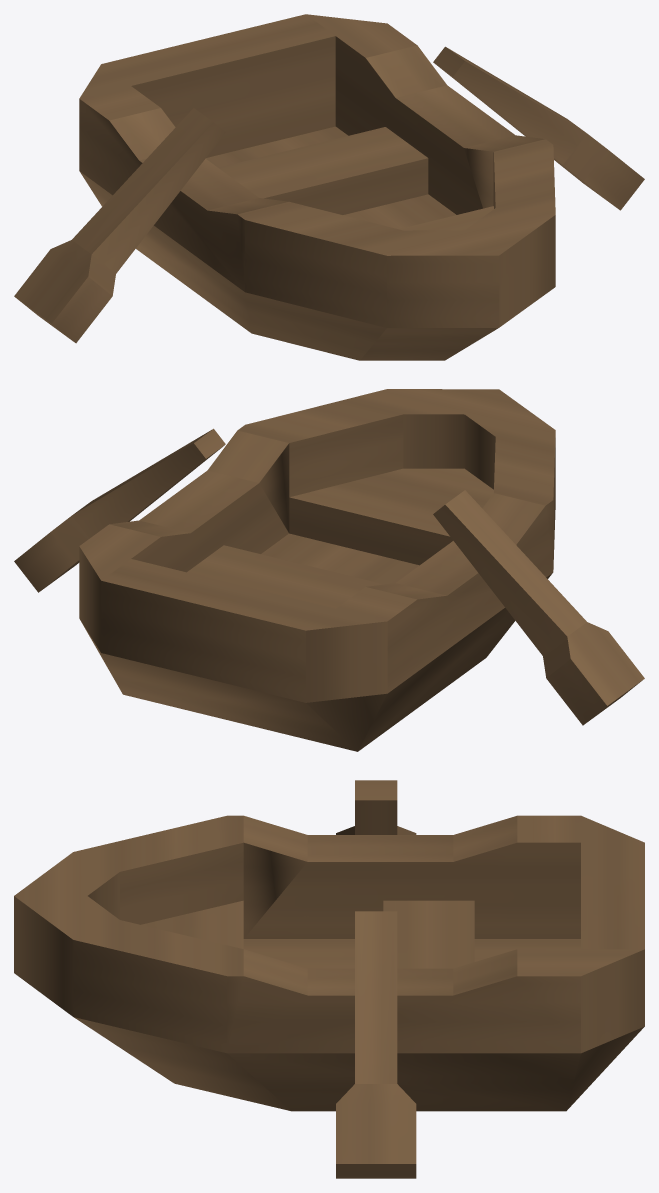
File: rowboat.glb
3 renders of one model, top to bottom at view 1: azimuth 30°, elevation 25°; view 2: azimuth 150°, elevation 25°; view 3: azimuth 270°, elevation 25°, orthographic. The views are drawn at different scales.
Parts seen in each view (by area): view 1: Rowboat; view 2: Rowboat; view 3: Rowboat.
Boxes of the visible parts, <box> form: Rowboat: <box>14,14,644,360</box>; Rowboat: <box>14,389,644,751</box>; Rowboat: <box>14,780,644,1178</box>.
Size of the model in its own units: 1.95 by 0.6 by 1.68.
1 material, 1 textured.
